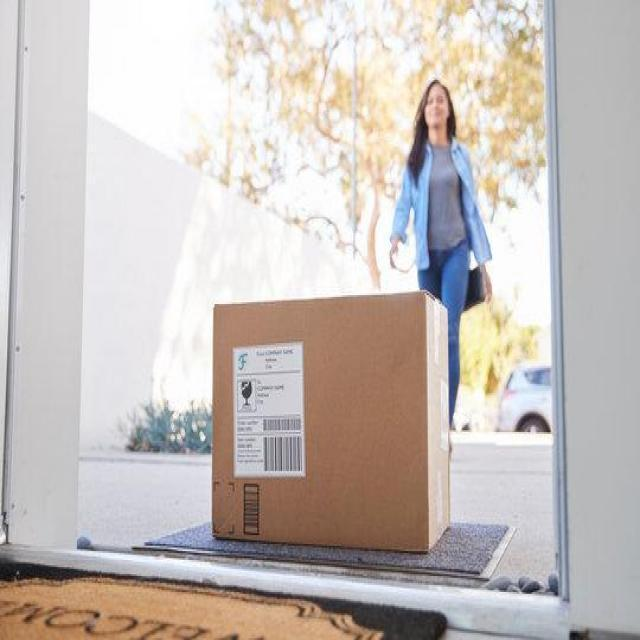box: (207, 284, 457, 556)
